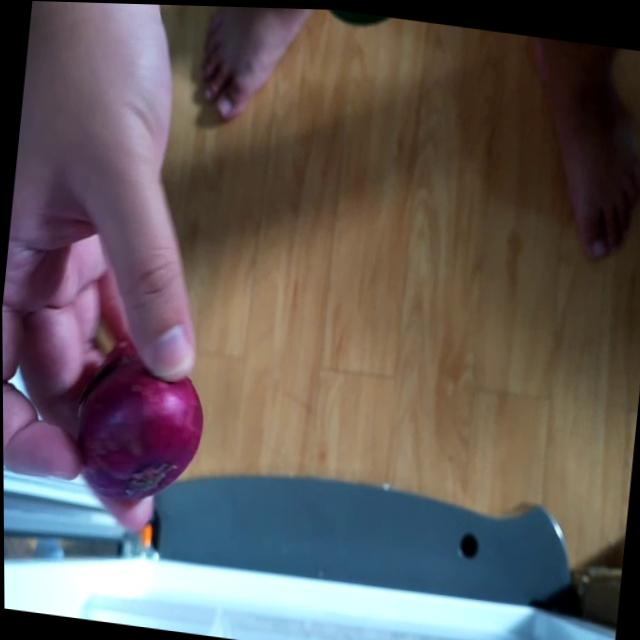onion: (65, 341, 213, 508)
